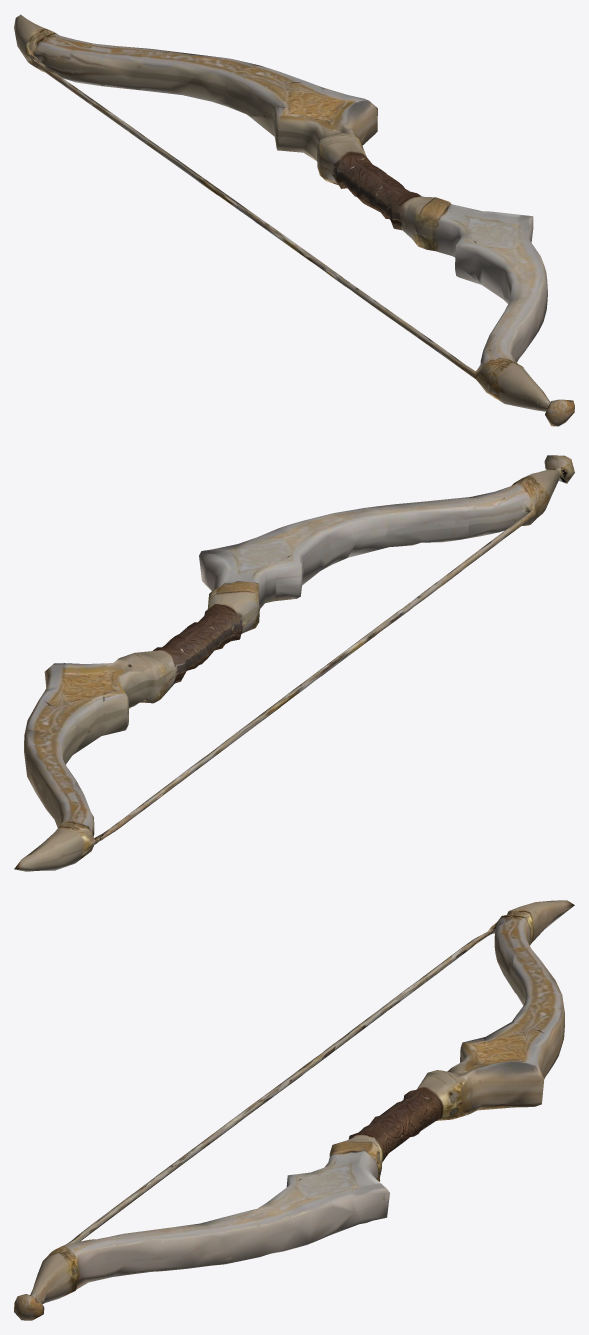
File: 1089_bow.glb
3 views of the same model, one above another, from view 1: azimuth 30°, elevation 25°; view 2: azimuth 150°, elevation 25°; view 3: azimuth 330°, elevation 25° (orthographic).
Visible parts, largest first — view 1: Model; view 2: Model; view 3: Model.
Boxes of the visible parts, x1,y1,x2,y2 form: Model: (14,14,574,426); Model: (14,455,574,871); Model: (14,900,574,1320).
Bounding box in the file's own units: 0.2162 × 0.046 × 1.
1 material, 1 textured.
